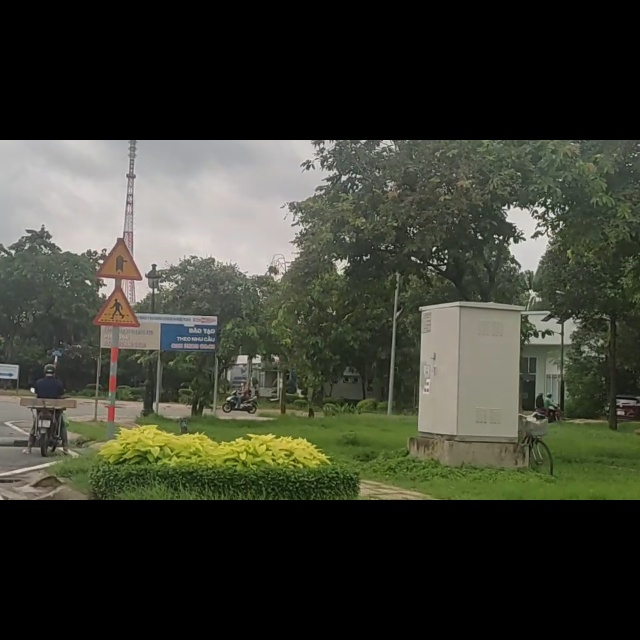bien_nguy_hiem: (95, 174, 143, 249), (93, 257, 141, 332)
